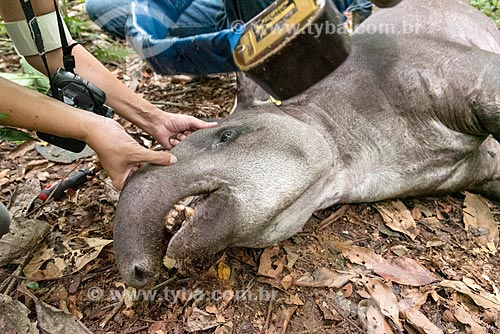Anta: (102, 6, 488, 286)
